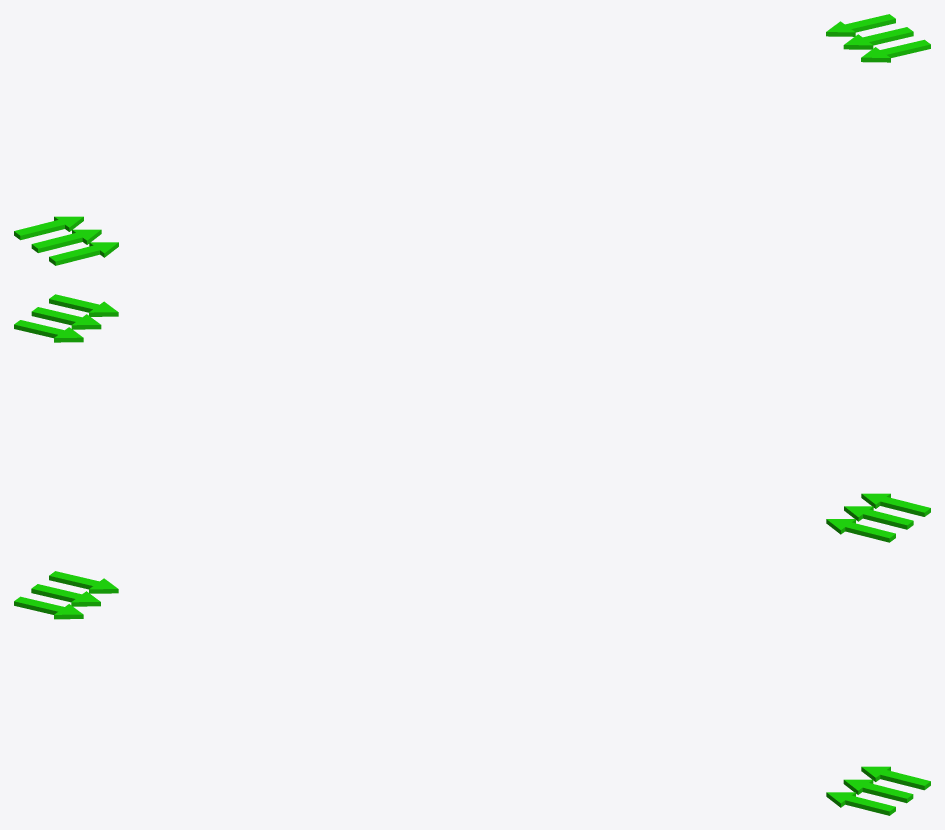
Rendered from Green arrow.fbx.
The picture shows the model from 3 angles, top to bottom: view 1: azimuth 30°, elevation 25°; view 2: azimuth 150°, elevation 25°; view 3: azimuth 330°, elevation 25°; orthographic projection.
Visible parts, largest first — view 1: GreenArrowIN2, GreenArrowIN1; view 2: GreenArrowIN2, GreenArrowIN1; view 3: GreenArrowIN1, GreenArrowIN2.
Boxes of the visible parts, x1,y1,x2,y2 form: GreenArrowIN2: [14, 216, 118, 265]; GreenArrowIN1: [826, 14, 930, 62]; GreenArrowIN2: [826, 493, 930, 542]; GreenArrowIN1: [14, 294, 118, 342]; GreenArrowIN1: [826, 766, 930, 815]; GreenArrowIN2: [14, 571, 118, 619].
Size of the model in its own units: 3.23 by 0.0242 by 0.3315.
